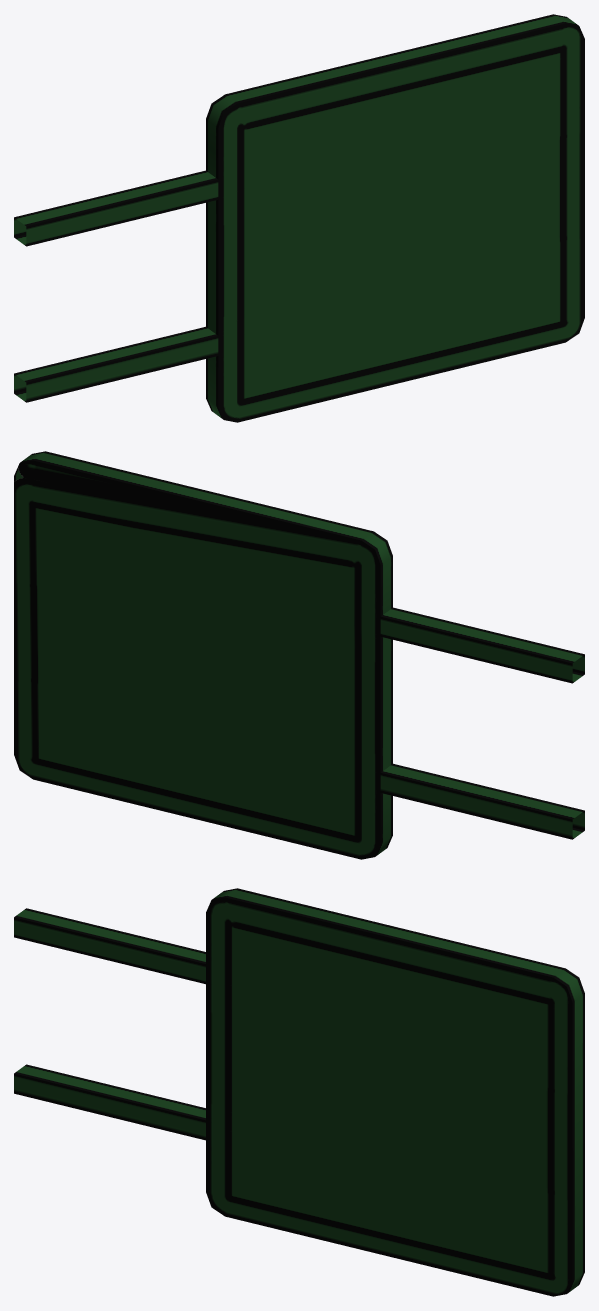
File: Board.fbx
3 views of the same model, one above another, from view 1: azimuth 30°, elevation 25°; view 2: azimuth 150°, elevation 25°; view 3: azimuth 330°, elevation 25° (orthographic).
Visible parts, largest first — view 1: Board; view 2: Board; view 3: Board.
Boxes of the visible parts, x1,y1,x2,y2 form: Board: (14,14,584,422); Board: (14,451,584,859); Board: (14,888,584,1296).
Bounding box in the file's own units: 2.03 × 1.11 × 0.0783.
